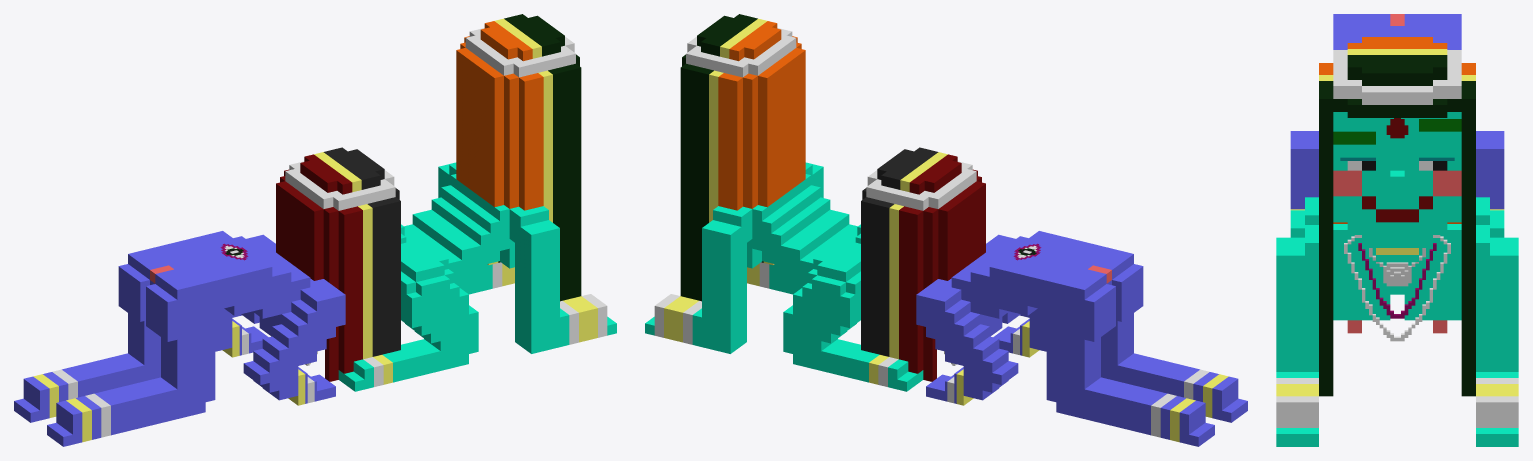
Rendered from kama88.glb.
The picture shows the model from 3 angles, left to right: view 1: azimuth 30°, elevation 25°; view 2: azimuth 150°, elevation 25°; view 3: azimuth 270°, elevation 25°; orthographic projection. The views are drawn at different scales.
Parts seen in each view (by area): view 1: Node; view 2: Node; view 3: Node.
Boxes of the visible parts, x1,y1,x2,y2 form: Node: (14,14,616,446); Node: (645,14,1247,446); Node: (1276,14,1518,446).
Size of the model in its own units: 22.4 by 11.2 by 6.8.
Materials: 1 (1 with a texture image).
